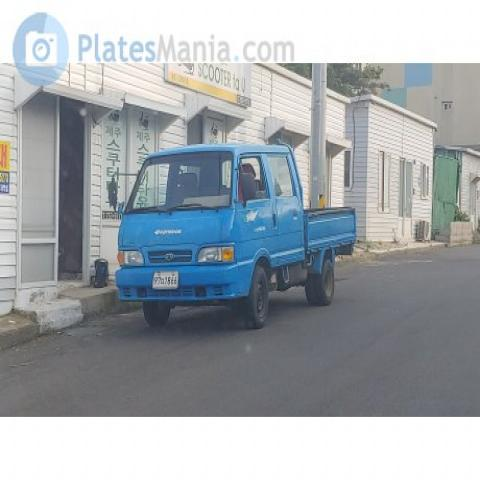LP: (144, 265, 184, 298)
